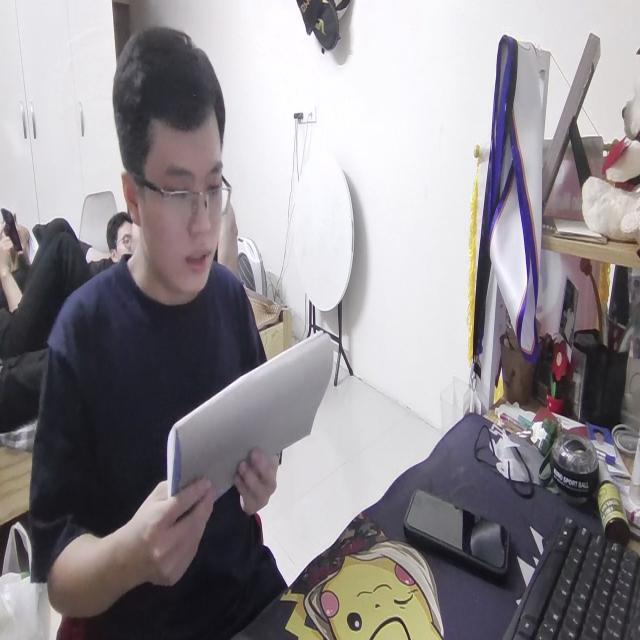book: (163, 322, 337, 500)
phone: (404, 477, 513, 586)
student: (24, 21, 304, 640)
